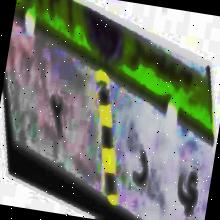2: (44, 88, 70, 145)
raa: (128, 142, 154, 194)
yaa: (171, 162, 206, 220)
